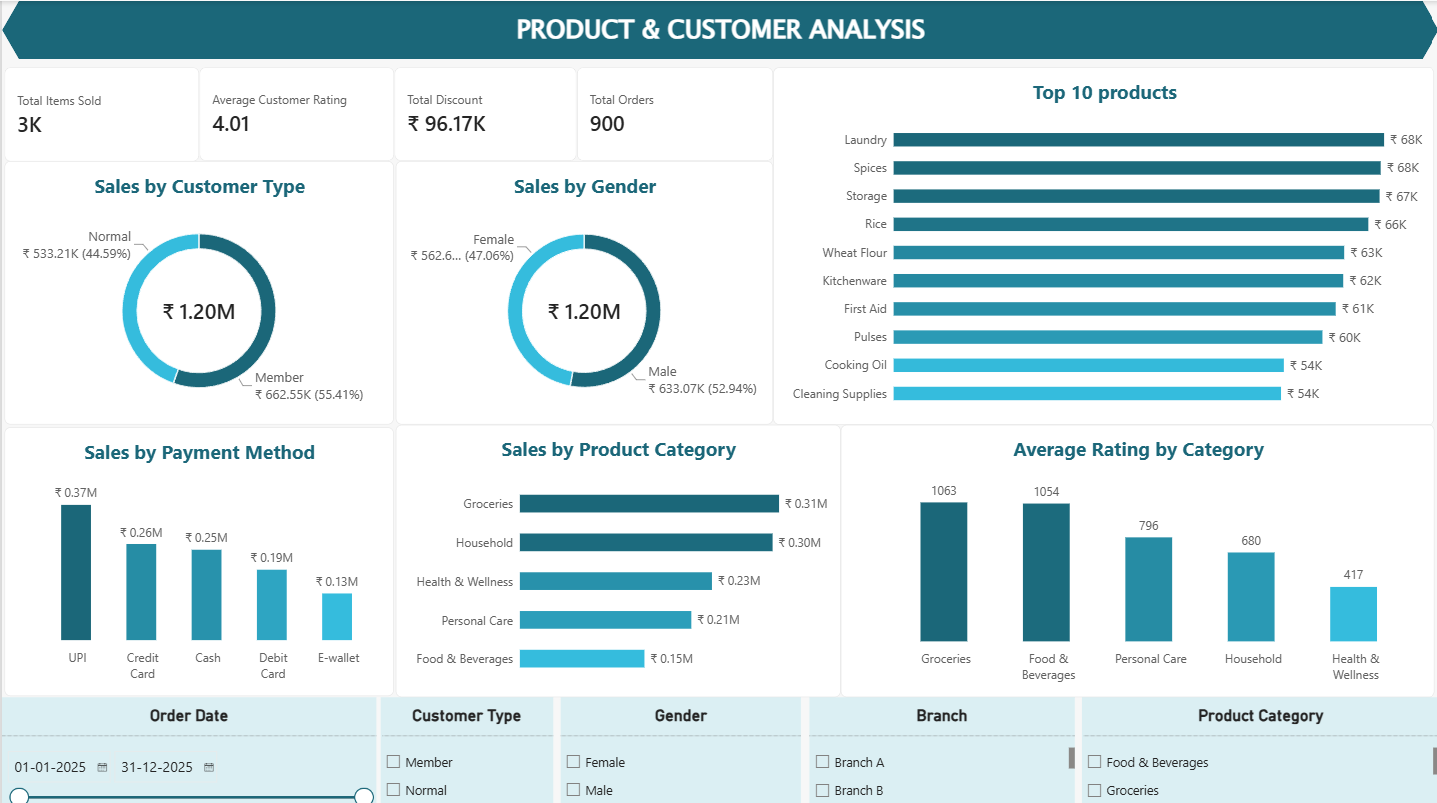

What the dashboard file says about the page in this screenshot:
{"tool":"powerbi","page":{"name":"Product & Customer Analysis","canvas":[1920,1080],"ordinal":1},"visuals":[{"type":"shape","box":[0,0,1920.4,77.6],"z":0},{"type":"cardVisual","fields":{"Data":["Supermarket_Data.Total Items Sold"]},"box":[4,88,260,126],"z":1000},{"type":"cardVisual","fields":{"Data":["Supermarket_Data.Average Customer Rating"]},"box":[264.4,87.8,260,125.6],"z":2000},{"type":"cardVisual","fields":{"Data":["Supermarket_Data.Total Orders"]},"box":[767.8,87.8,262.2,125.6],"z":3000},{"type":"cardVisual","fields":{"Data":["Supermarket_Data.Total Discount"]},"box":[524.4,87.8,243.3,125.6],"z":4000},{"type":"barChart","title":"Top 10 products","fields":{"Category":["Supermarket_Data.Product"],"Y":["Supermarket_Data.Total Sales"]},"box":[1030,88.3,884.2,477.5],"z":5000},{"type":"donutChart","title":"Sales by Customer Type","fields":{"Category":["Supermarket_Data.Customer_Type"],"Y":["Supermarket_Data.Total Sales"]},"box":[4,214,520,352],"z":6000},{"type":"donutChart","title":"Sales by Gender","fields":{"Category":["Supermarket_Data.Gender"],"Y":["Supermarket_Data.Total Sales"]},"box":[526,214,504,352],"z":7000},{"type":"columnChart","title":"Sales by Payment Method","fields":{"Category":["Supermarket_Data.Payment_Method"],"Y":["Supermarket_Data.Total Sales"]},"box":[3.8,569.2,520,359.2],"z":8000},{"type":"barChart","title":"Sales by Product Category","fields":{"Category":["Supermarket_Data.Product_Category"],"Y":["Supermarket_Data.Total Sales"]},"box":[526,566,594,364],"z":9000},{"type":"columnChart","title":"Average Rating by Category","fields":{"Category":["Supermarket_Data.Product_Category"],"Y":["Sum(Supermarket_Data.Customer_Rating)"]},"box":[1120,565.8,794.2,364.2],"z":10000},{"type":"slicer","title":"Order Date","fields":{"Values":["Supermarket_Data.Order_Date"]},"box":[0,930,500,150],"z":11000},{"type":"slicer","title":"Customer Type","fields":{"Values":["Supermarket_Data.Customer_Type"]},"box":[506,930,230,150],"z":12000},{"type":"slicer","title":"Branch","fields":{"Values":["Supermarket_Data.Branch"]},"box":[1078,930,354,148],"z":13000},{"type":"slicer","title":"Product Category","fields":{"Values":["Supermarket_Data.Product_Category"]},"box":[1442,930,478,150],"z":14000},{"type":"slicer","title":"Gender","fields":{"Values":["Supermarket_Data.Gender"]},"box":[746.7,930,321.1,150],"z":15000}]}

Visuals, with their boxes in screenshot pixels (x1, y1, x2, y2), scaled from the page's 1920x1080 canvas onto the 1437x803 screenshot:
shape: {"x1": 0, "y1": 0, "x2": 1436, "y2": 58}
cardVisual - Supermarket_Data.Total Items Sold: {"x1": 3, "y1": 65, "x2": 198, "y2": 159}
cardVisual - Supermarket_Data.Average Customer Rating: {"x1": 198, "y1": 65, "x2": 392, "y2": 159}
cardVisual - Supermarket_Data.Total Orders: {"x1": 575, "y1": 65, "x2": 771, "y2": 159}
cardVisual - Supermarket_Data.Total Discount: {"x1": 392, "y1": 65, "x2": 575, "y2": 159}
"Top 10 products" barChart: {"x1": 771, "y1": 66, "x2": 1433, "y2": 421}
"Sales by Customer Type" donutChart: {"x1": 3, "y1": 159, "x2": 392, "y2": 421}
"Sales by Gender" donutChart: {"x1": 394, "y1": 159, "x2": 771, "y2": 421}
"Sales by Payment Method" columnChart: {"x1": 3, "y1": 423, "x2": 392, "y2": 690}
"Sales by Product Category" barChart: {"x1": 394, "y1": 421, "x2": 838, "y2": 691}
"Average Rating by Category" columnChart: {"x1": 838, "y1": 421, "x2": 1433, "y2": 691}
"Order Date" slicer: {"x1": 0, "y1": 691, "x2": 374, "y2": 802}
"Customer Type" slicer: {"x1": 379, "y1": 691, "x2": 551, "y2": 802}
"Branch" slicer: {"x1": 807, "y1": 691, "x2": 1072, "y2": 802}
"Product Category" slicer: {"x1": 1079, "y1": 691, "x2": 1436, "y2": 802}
"Gender" slicer: {"x1": 559, "y1": 691, "x2": 799, "y2": 802}
